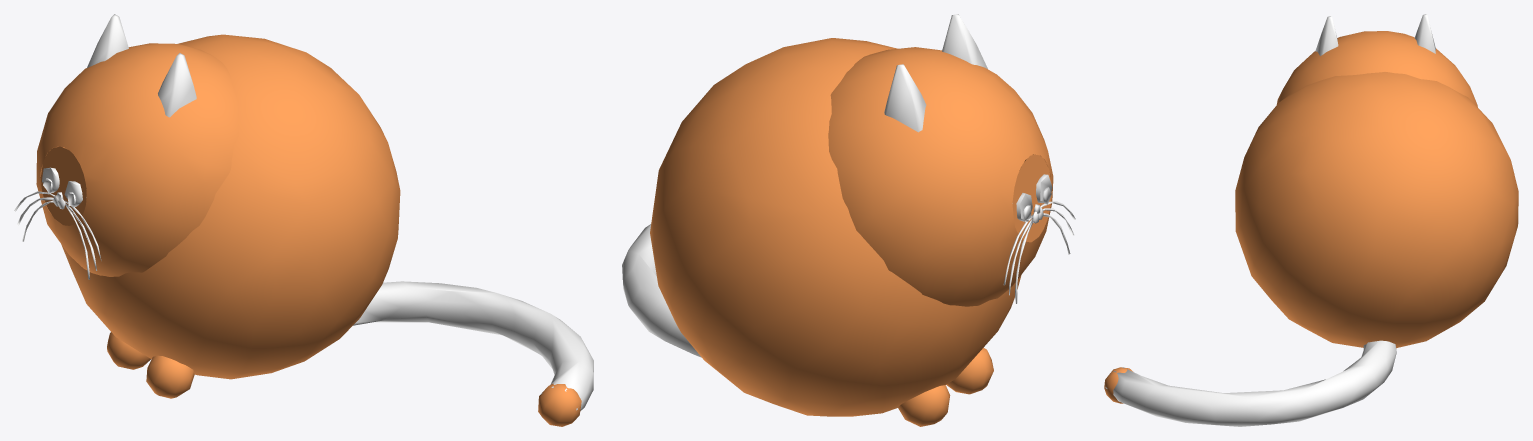
Rendered from SlimCat.obj.
The picture shows the model from 3 angles, left to right: view 1: azimuth 30°, elevation 25°; view 2: azimuth 150°, elevation 25°; view 3: azimuth 270°, elevation 25°; orthographic projection. The views are drawn at different scales.
Parts seen in each view (by area): view 1: fatCat; view 2: fatCat; view 3: fatCat.
Boxes of the visible parts, x1=… form: fatCat: x1=14, y1=14, x2=593, y2=426; fatCat: x1=622, y1=14, x2=1075, y2=426; fatCat: x1=1104, y1=14, x2=1518, y2=426.
Size of the model in its own units: 26.52 by 20.09 by 26.17.
